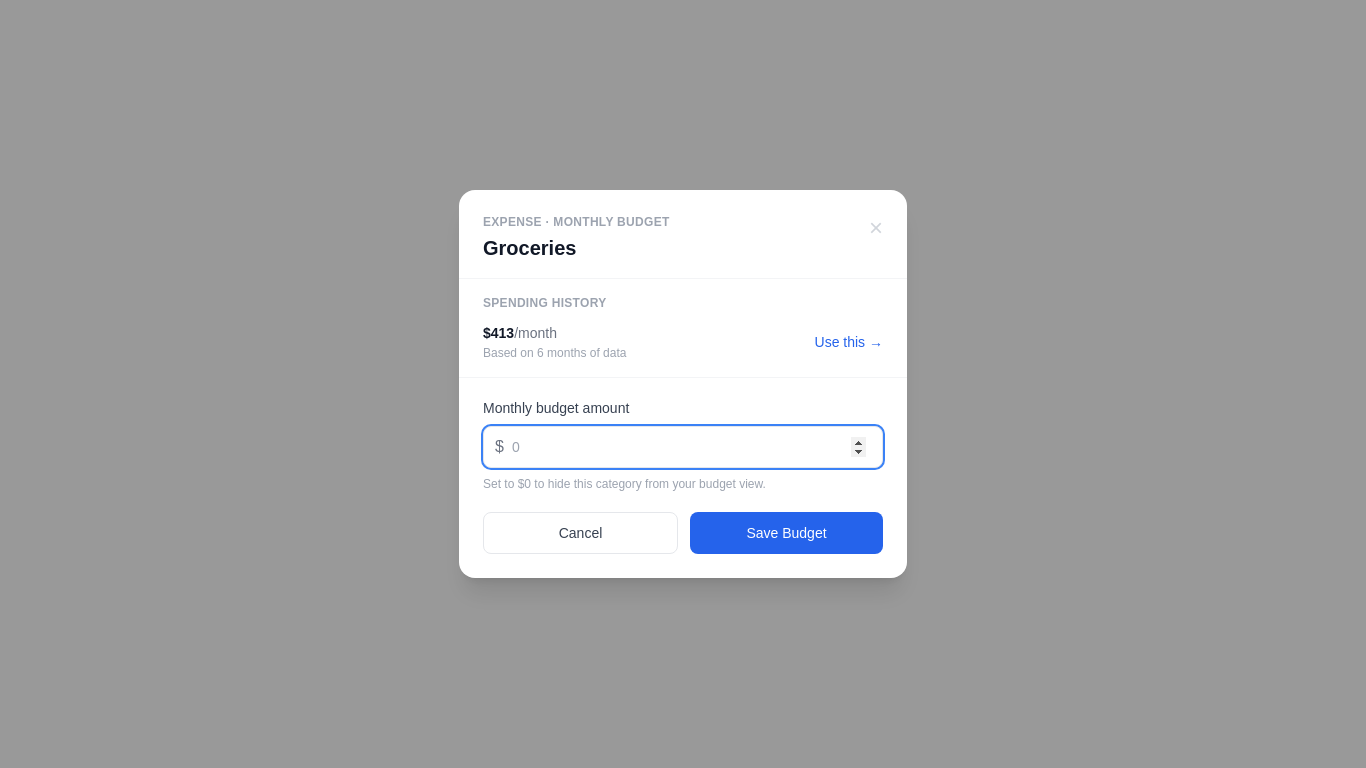
Test: BudgetEditModal › 'Use this →' button copies the rounded historical average into the input
Click the button "Use this →" at (849, 342), box [814, 332, 883, 352]
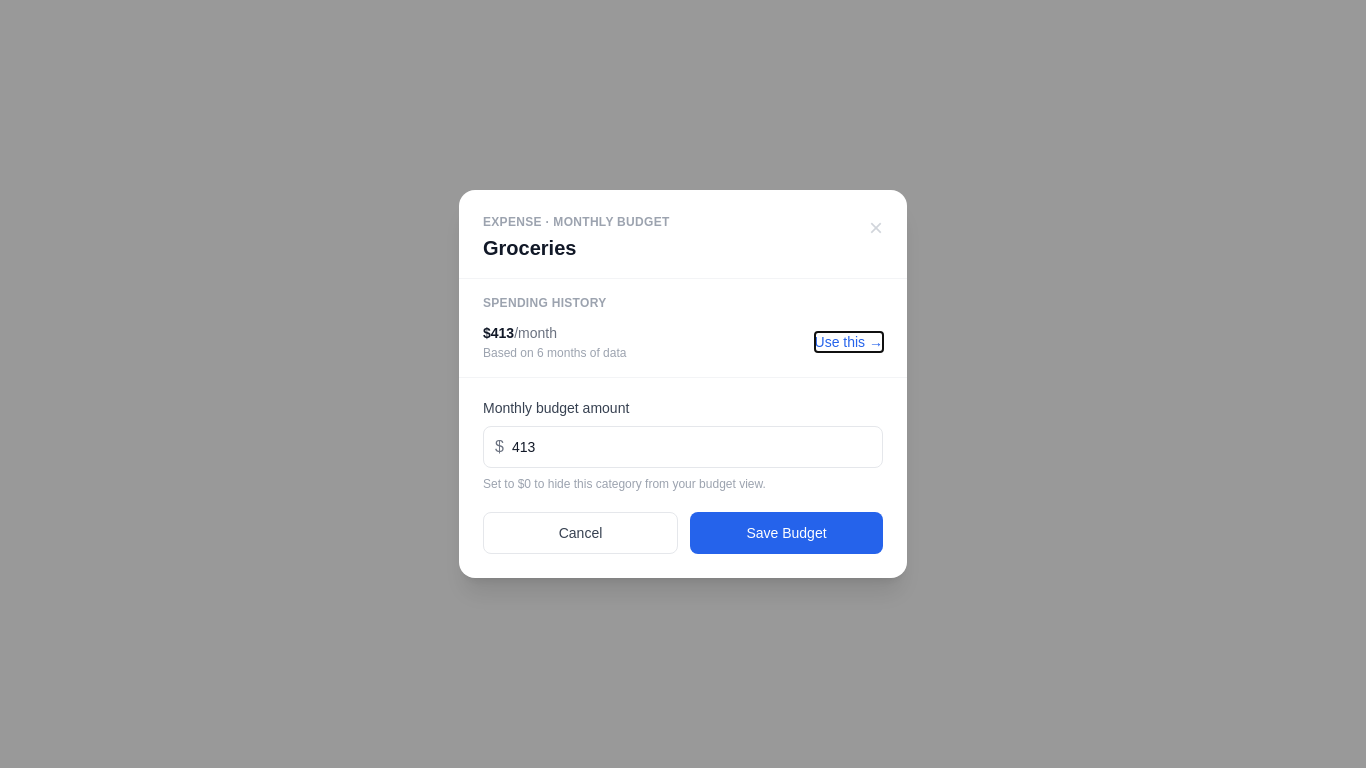
expect the number field labelled "Monthly budget amount" holds "413": met, box [483, 426, 883, 468]
